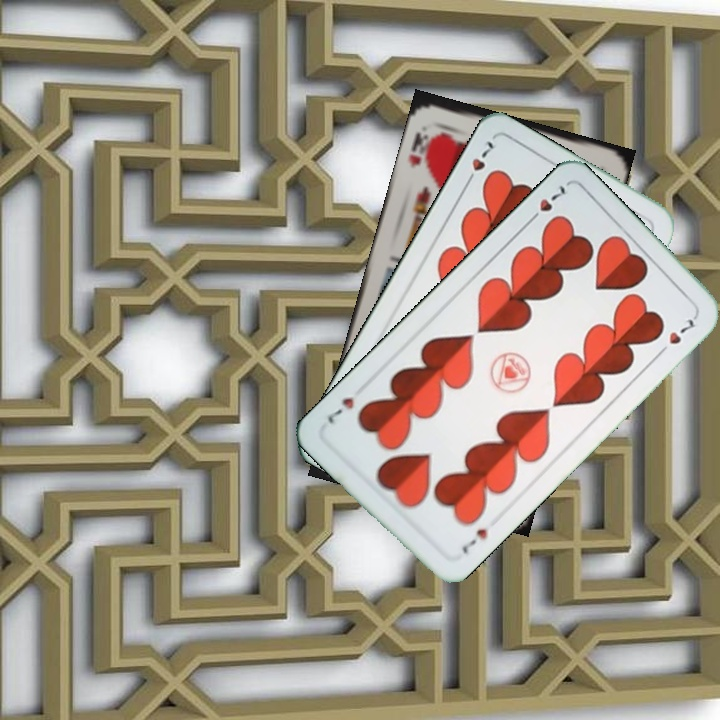H7: (523, 181, 569, 227), (460, 136, 496, 189), (457, 524, 490, 557)
HK: (404, 128, 438, 171)
